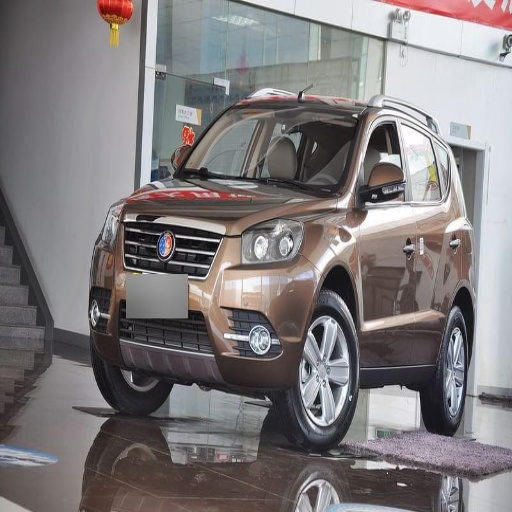front_bumper: (90, 219, 319, 392)
front_glass: (176, 106, 357, 194)
front_left_door: (356, 111, 418, 364)
